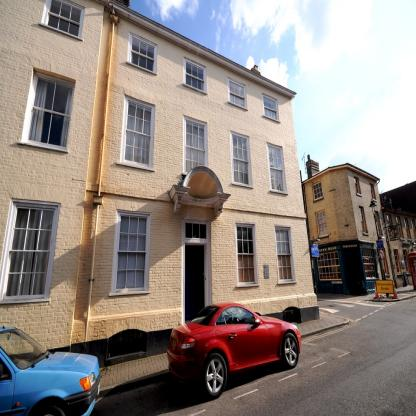Car: (168, 301, 303, 402), (1, 325, 99, 416)
